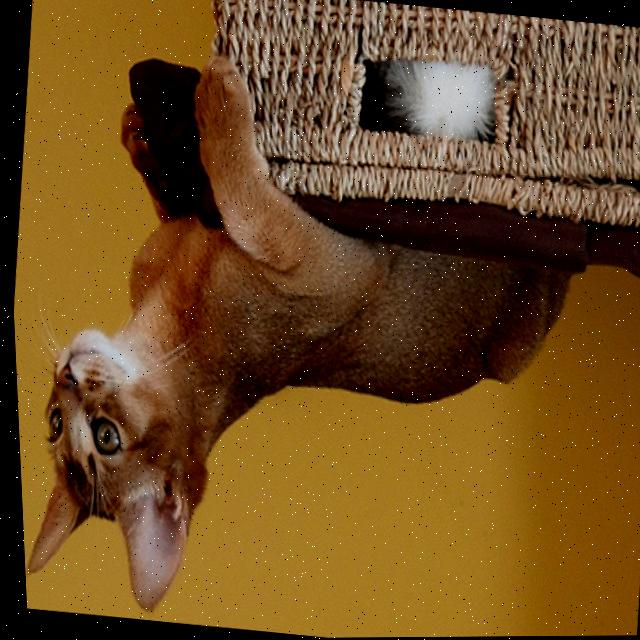Abyssinian: (1, 28, 608, 640)
